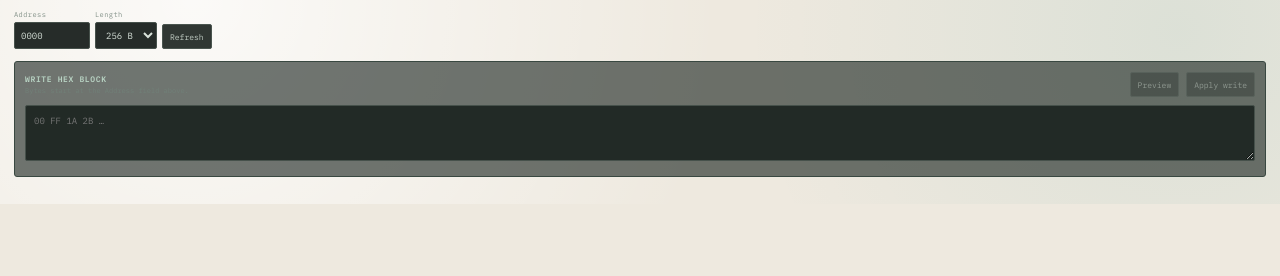
bulk memory editing › requires a fresh preview after the draft changes
In the text box named "Hex bytes": (640, 133) [25,105,1255,161], type "01 02"
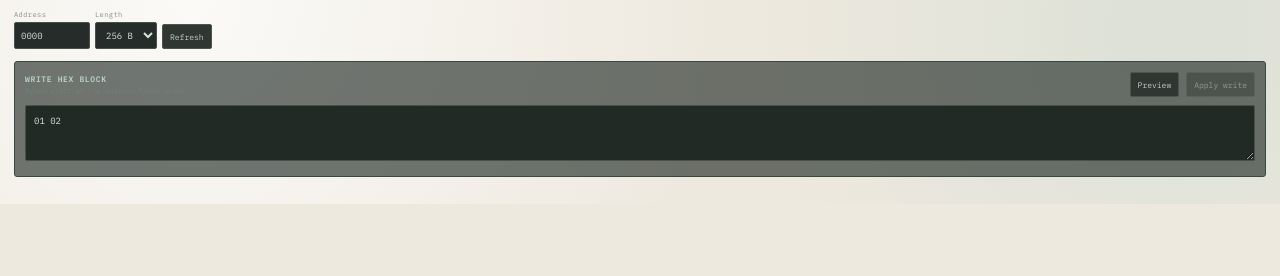
Click the button "Preview": (1154, 84) [1130,72,1179,97]
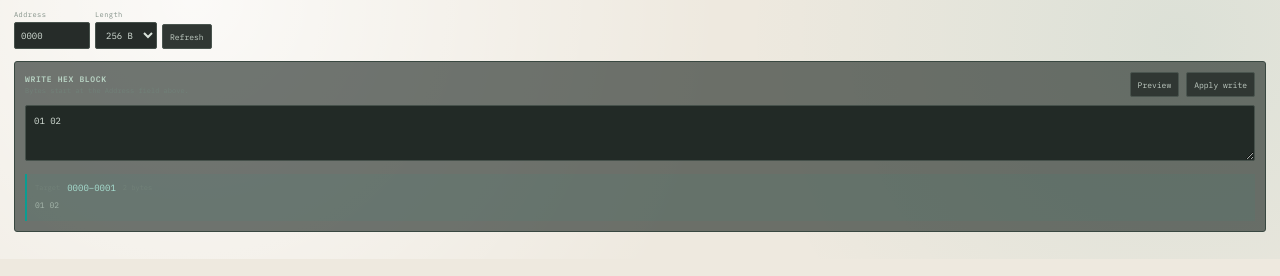
Replace the text in the text box named "Hex bytes" with "03 04": (640, 133) [25,105,1255,161]
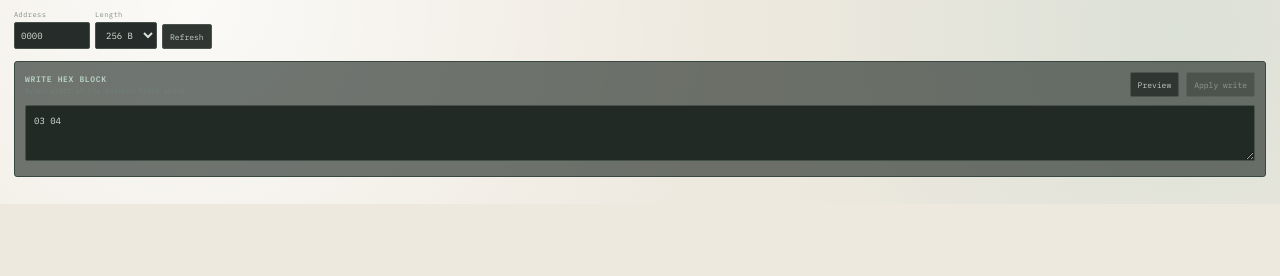
Now the button "Apply write" is disabled, box [1186,72,1255,97]
